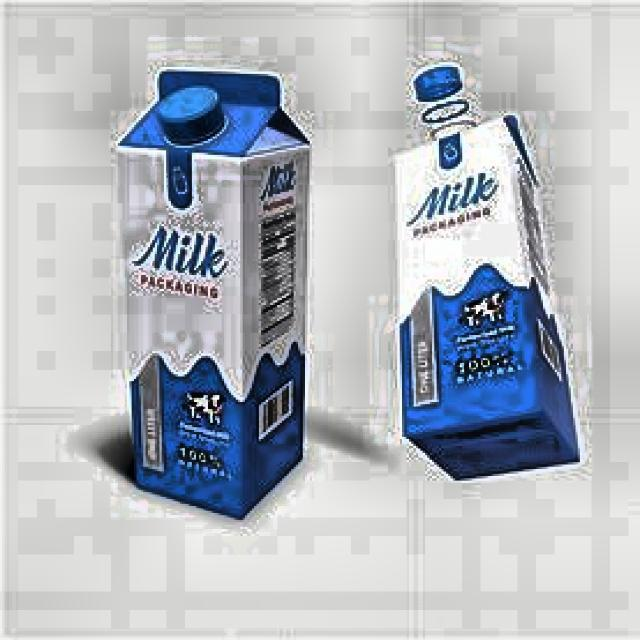cardboard: (116, 67, 310, 518), (390, 110, 580, 480)
